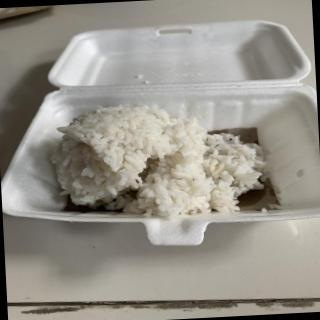Nasi: (54, 100, 272, 224)
